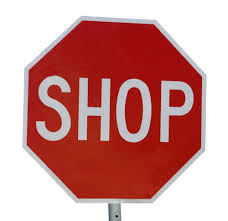stop sign: (22, 14, 206, 203)
